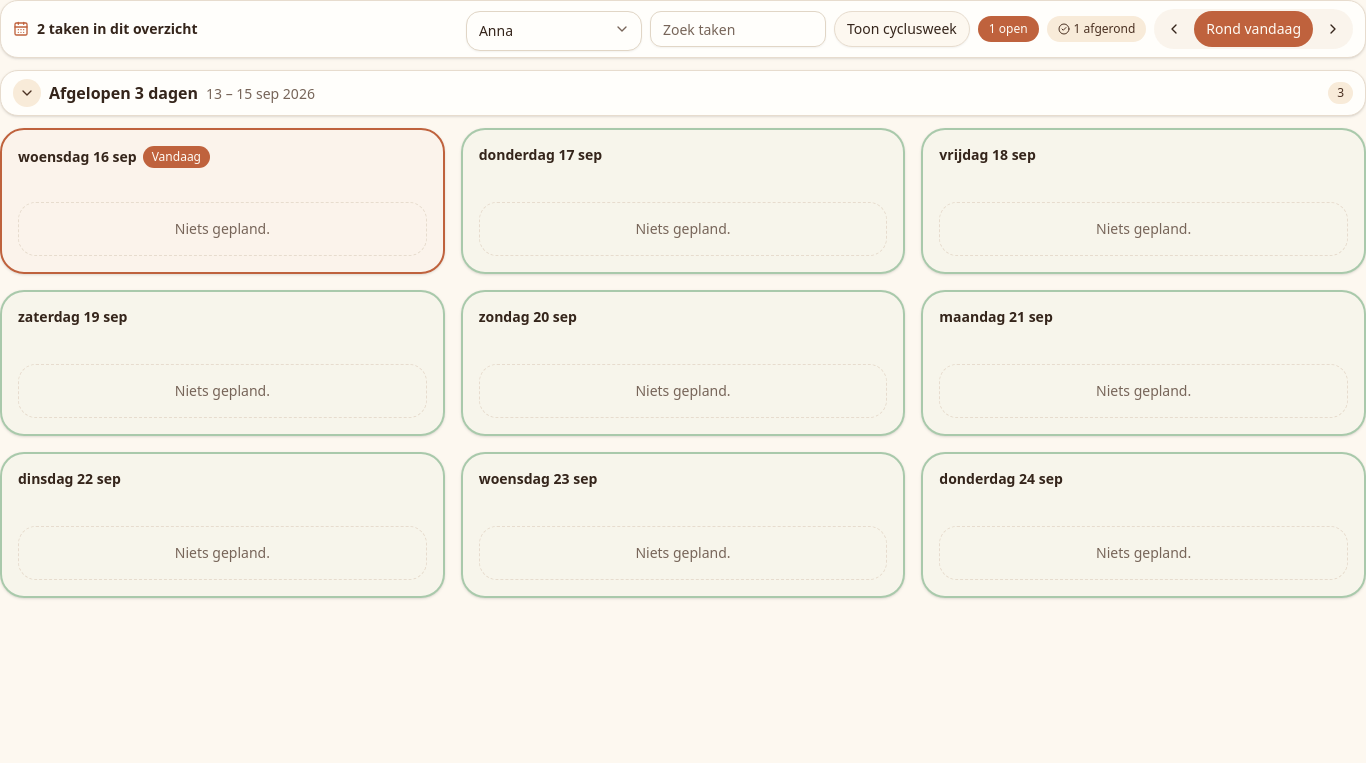
WeekPage › shows three collapsible past days, today and eight future days with distinct borders
Select "Alle personen" in the dropdown named "Filter op persoon" at (554,31), box [466, 11, 642, 51]
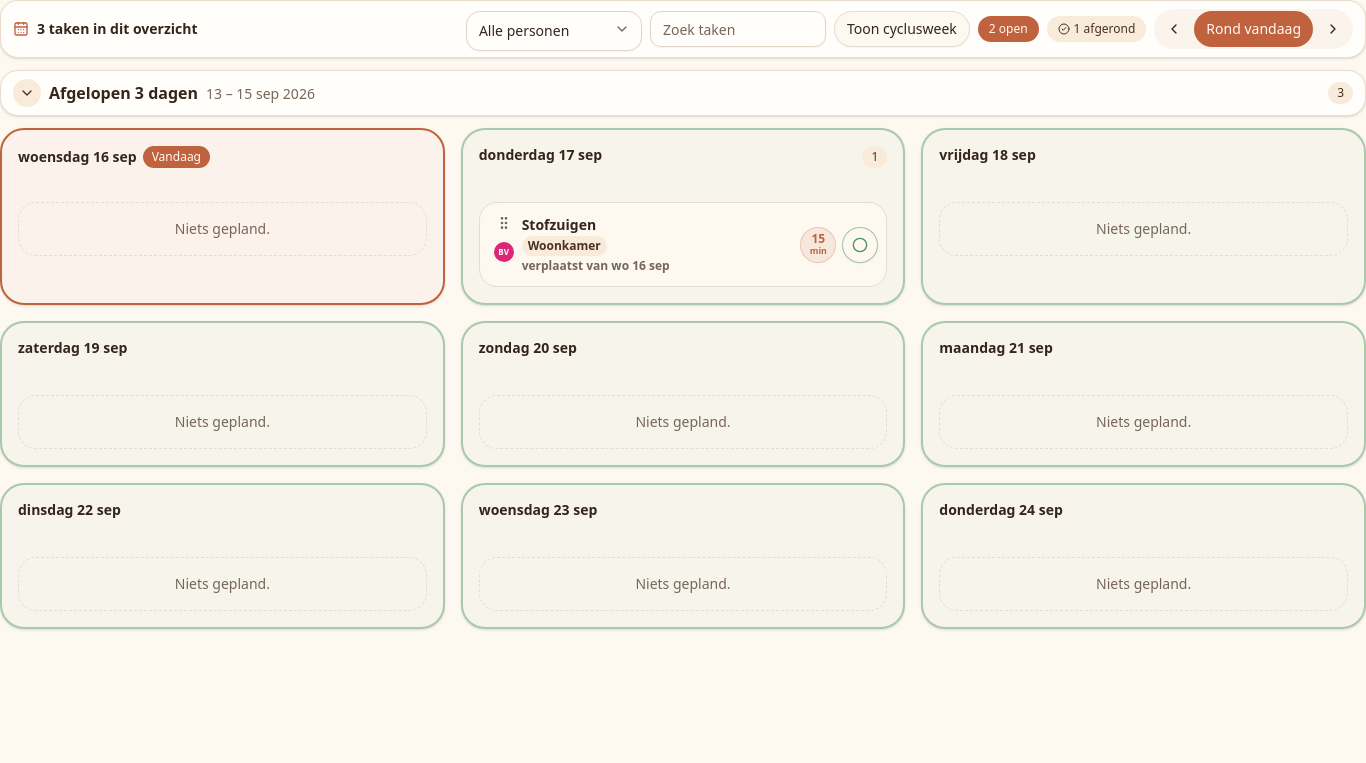
expect the heading "zondag 13 sep" is not shown: met
Click the button "Afgelopen 3 dagen 13 – 15 sep 2026 3" at (124,93), box [0, 70, 1365, 116]
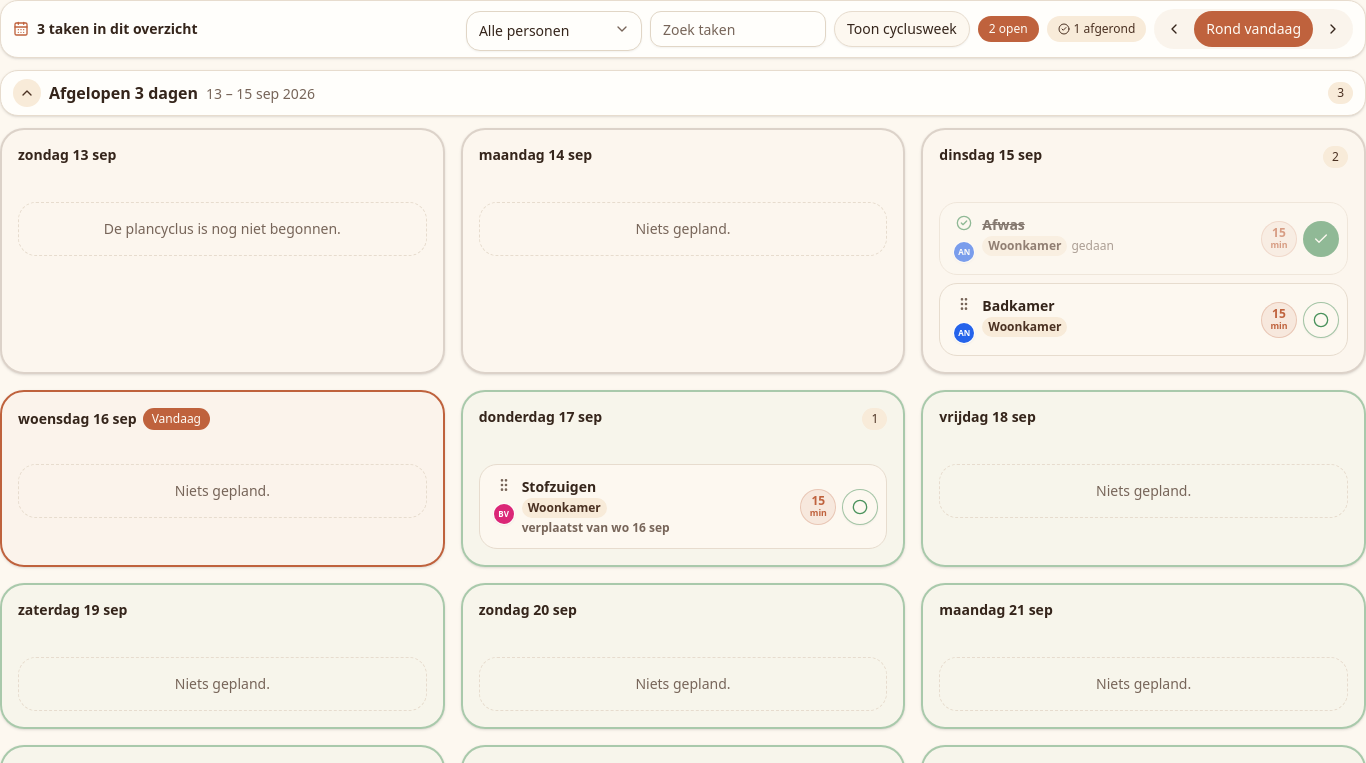
expect the text "verplaatst van wo 16 sep" is shown: met, box [522, 520, 670, 536]
expect the element labelled "15 min" below "donderdag 17 sep" is shown: met, box [800, 489, 836, 525]
expect the heading "zondag 13 sep" is shown: met, box [18, 146, 116, 164]
